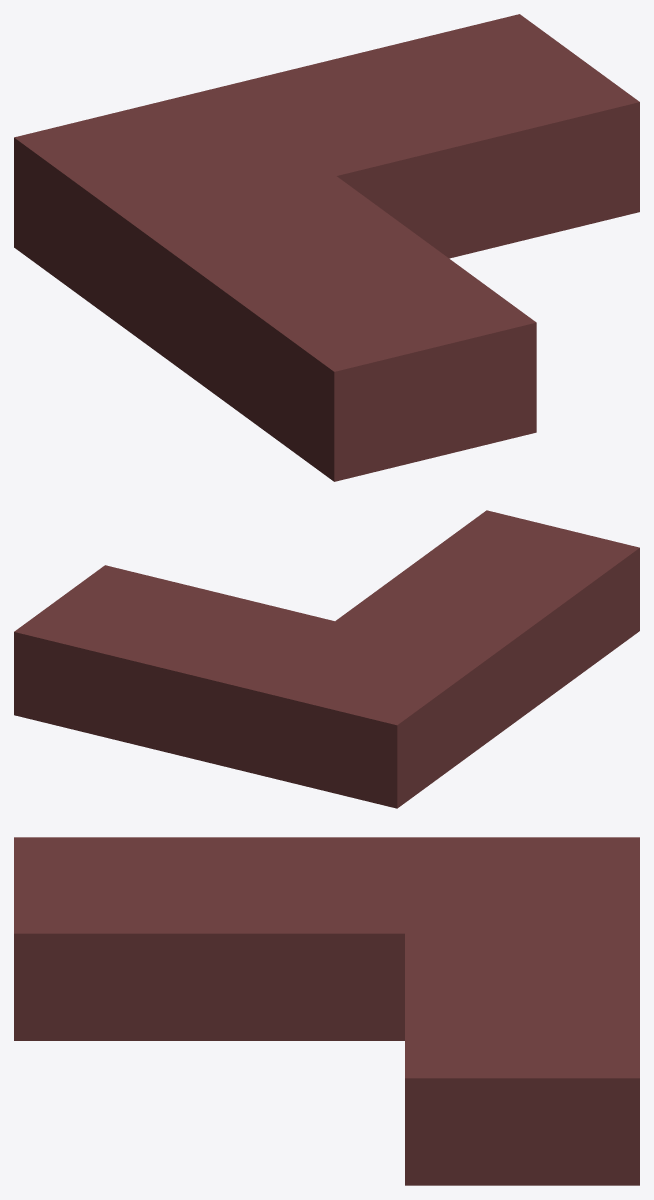
File: Computer_Space.fbx
3 renders of one model, top to bottom at view 1: azimuth 30°, elevation 25°; view 2: azimuth 150°, elevation 25°; view 3: azimuth 270°, elevation 25°, orthographic. The views are drawn at different scales.
Parts seen in each view (by area): view 1: Coin_Ordinateur; view 2: Coin_Ordinateur; view 3: Coin_Ordinateur.
Boxes of the visible parts, bbox=[...] form: Coin_Ordinateur: bbox=[14, 14, 639, 481]; Coin_Ordinateur: bbox=[14, 510, 639, 808]; Coin_Ordinateur: bbox=[14, 837, 639, 1185].
Bounding box in the file's own units: 32943 × 6848 × 36142.
